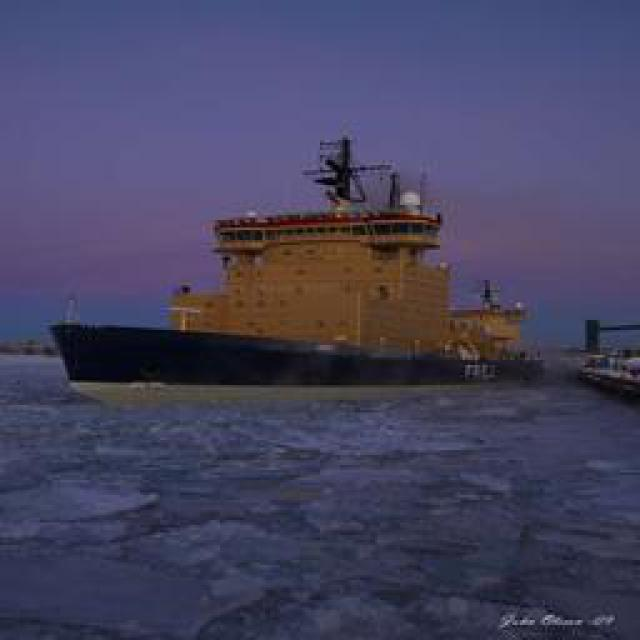Ship: (51, 299, 539, 404)
